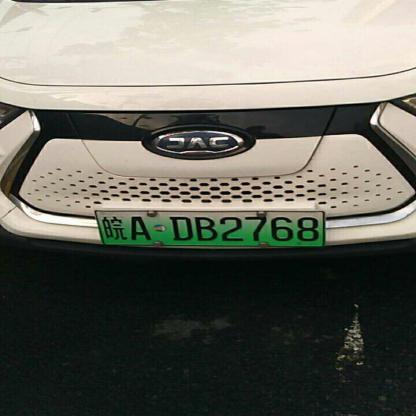lp: (94, 211, 325, 246)
